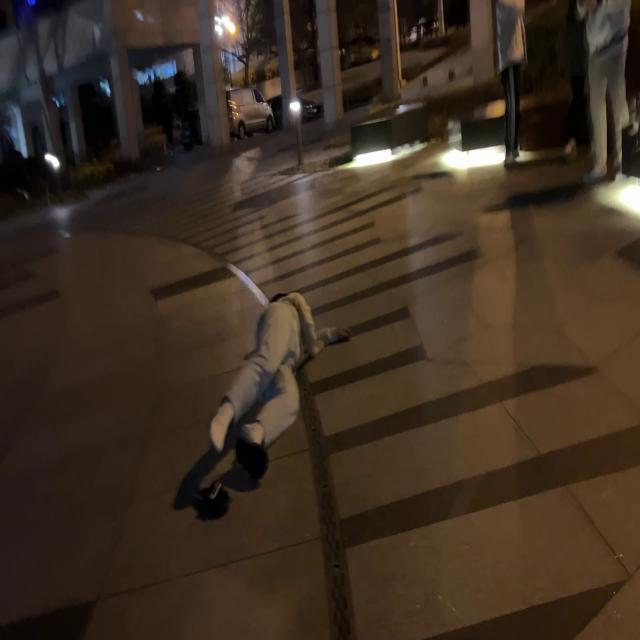Fall: (210, 293, 352, 480)
